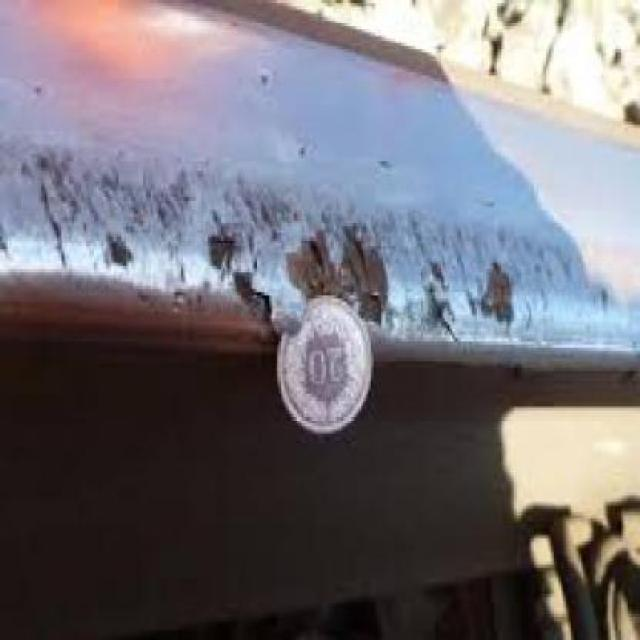defective: (0, 16, 640, 604)
